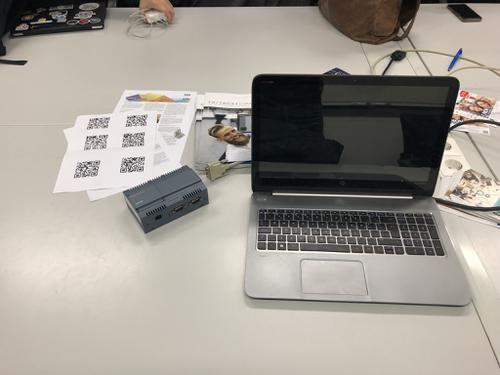device: (123, 165, 210, 235)
